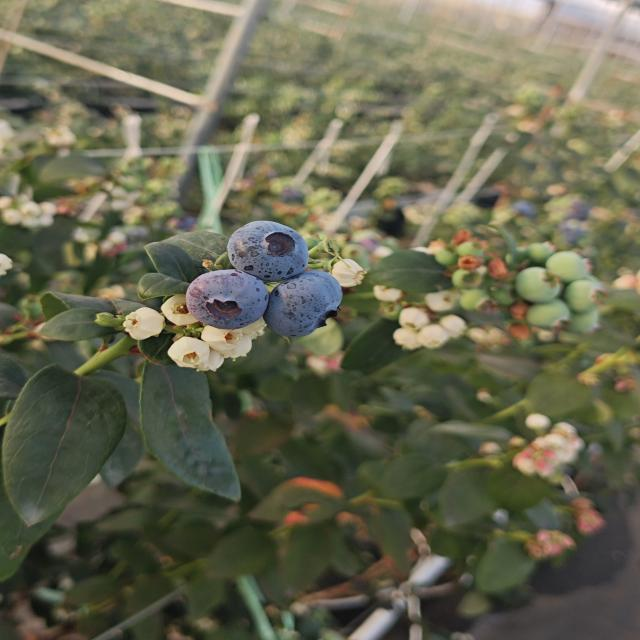ripe: (274, 270, 348, 343), (186, 267, 276, 323), (218, 220, 312, 270)
